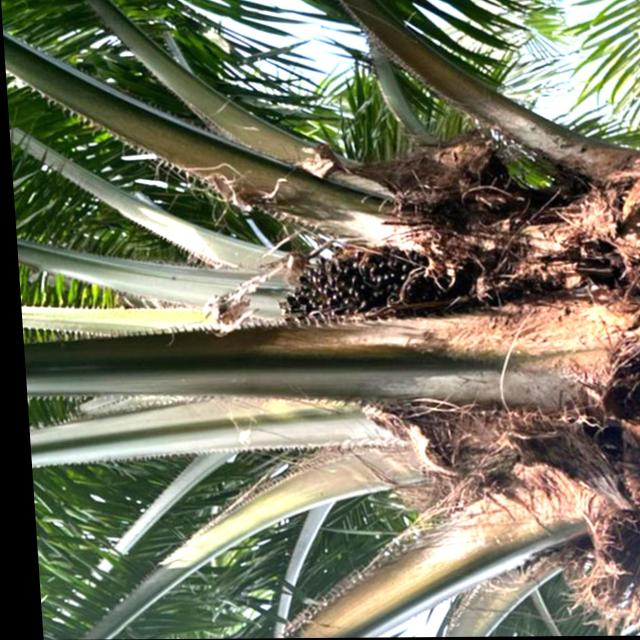almost: (264, 240, 448, 338)
